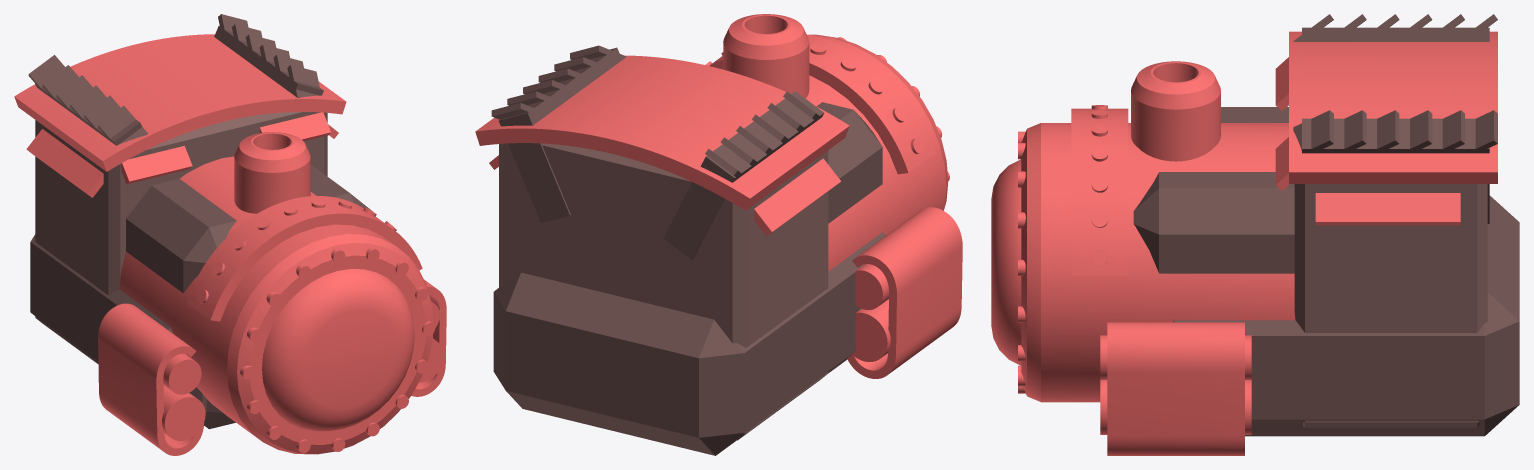
File: Engine v2 back export.fbx
The picture shows the model from 3 angles, left to right: view 1: azimuth 30°, elevation 25°; view 2: azimuth 150°, elevation 25°; view 3: azimuth 270°, elevation 25°; orthographic projection. The views are drawn at different scales.
Visible parts, largest first — view 1: Tube_1, Symmetry_2, Cube; view 2: Tube_1, Symmetry_2, Cube; view 3: Tube_1, Symmetry_2, Cube.
Part boxes in pixels (left/top/right/bottom): Tube_1: left=14, top=34, right=446, bottom=455; Symmetry_2: left=28, top=14, right=372, bottom=429; Cube: left=35, top=112, right=327, bottom=364; Tube_1: left=475, top=14, right=962, bottom=378; Symmetry_2: left=491, top=45, right=885, bottom=455; Cube: left=499, top=143, right=828, bottom=440; Tube_1: left=991, top=31, right=1497, bottom=455; Symmetry_2: left=1133, top=14, right=1519, bottom=436; Cube: left=1294, top=184, right=1487, bottom=427.
Bounding box in the file's own units: 48.38 × 44.11 × 64.51.
